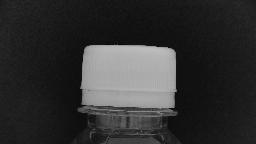Good Cap: (74, 39, 182, 119)
